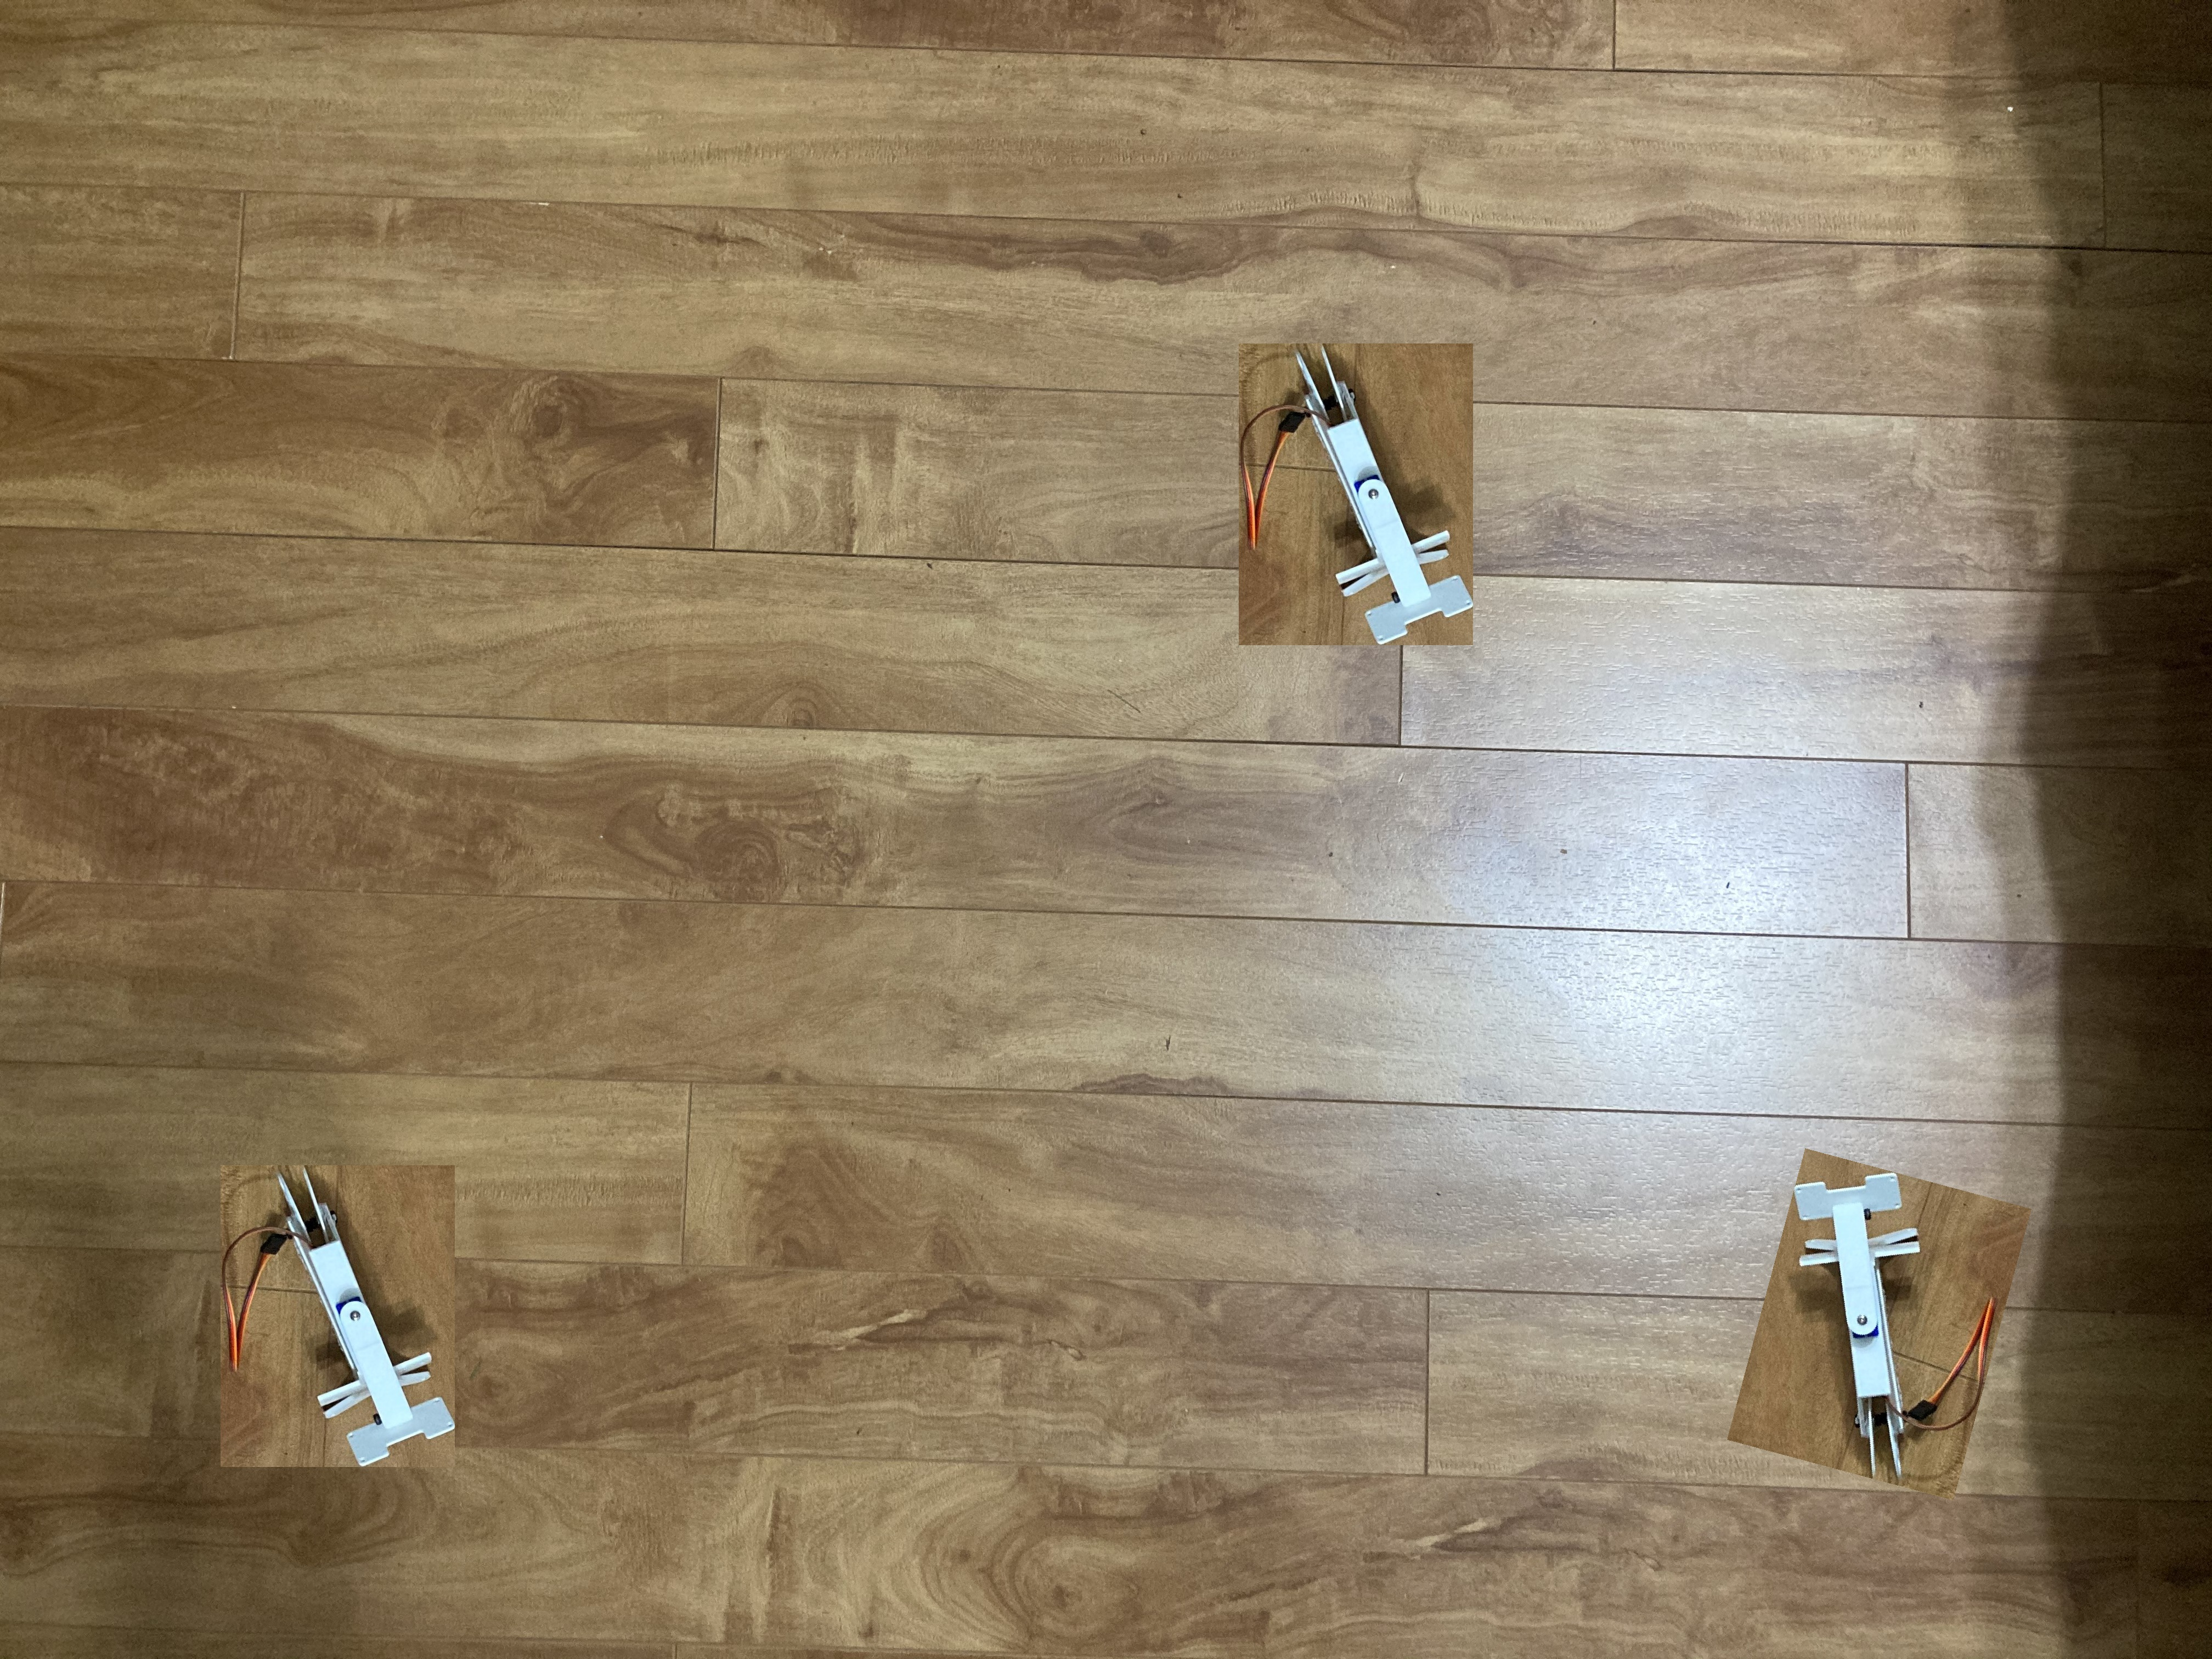robot: (1240, 342, 1486, 669), (214, 1164, 462, 1478), (1787, 1152, 2006, 1490)
